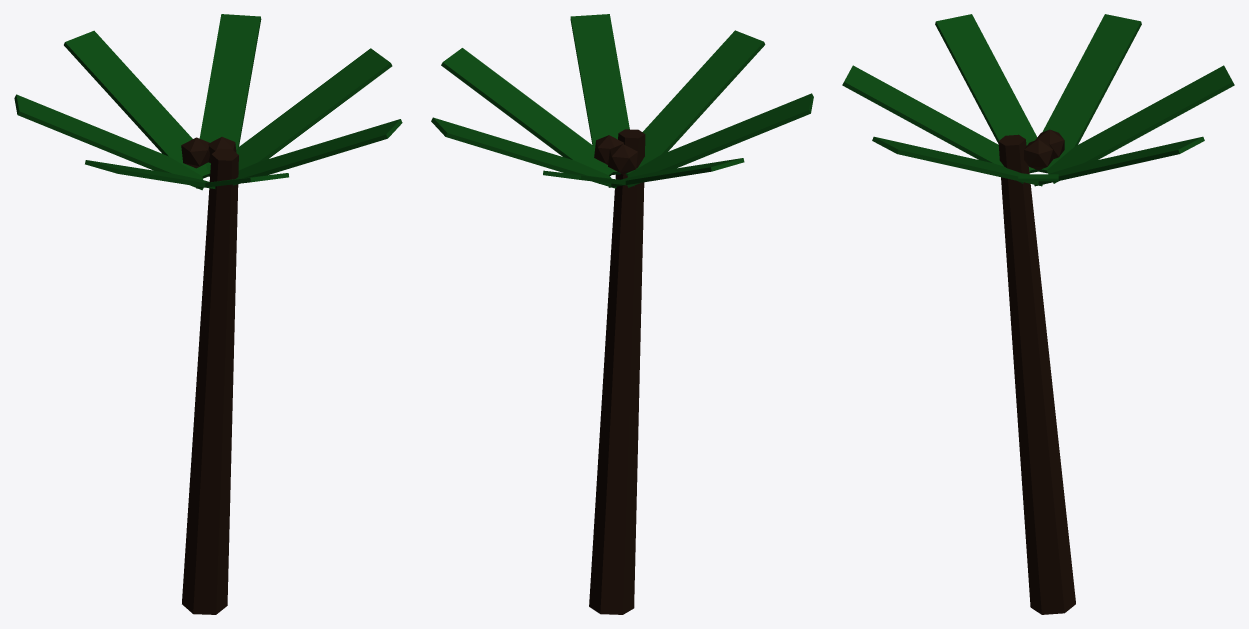
Rendered from palm_tree.obj.
The picture shows the model from 3 angles, left to right: view 1: azimuth 30°, elevation 25°; view 2: azimuth 150°, elevation 25°; view 3: azimuth 270°, elevation 25°; orthographic projection.
Parts seen in each view (by area): view 1: palm_tree; view 2: palm_tree; view 3: palm_tree.
Part boxes in pixels (box(x1,y1,x2,y2)): palm_tree: box(14, 14, 402, 614); palm_tree: box(431, 14, 813, 614); palm_tree: box(842, 14, 1234, 614).
Size of the model in its own units: 3.34 by 4.97 by 3.43.
